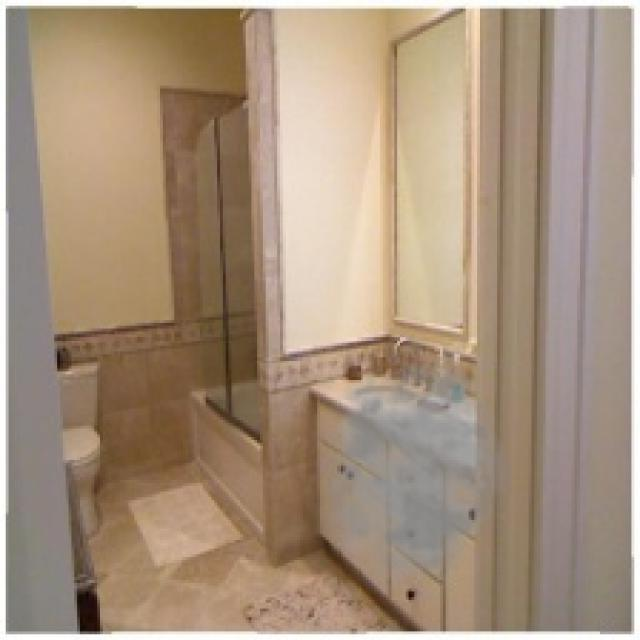Smoke: (299, 351, 512, 603)
